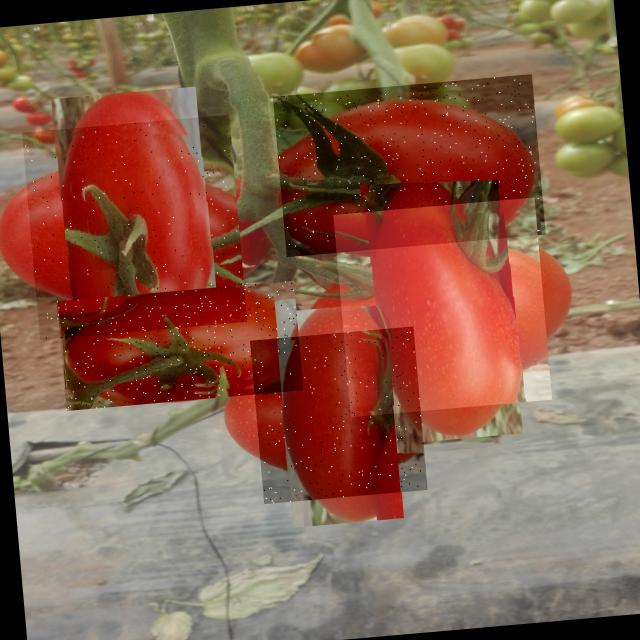Ripe Tomato: (22, 114, 246, 340), (272, 74, 546, 256), (333, 197, 552, 417), (56, 281, 303, 411), (250, 326, 428, 504)
